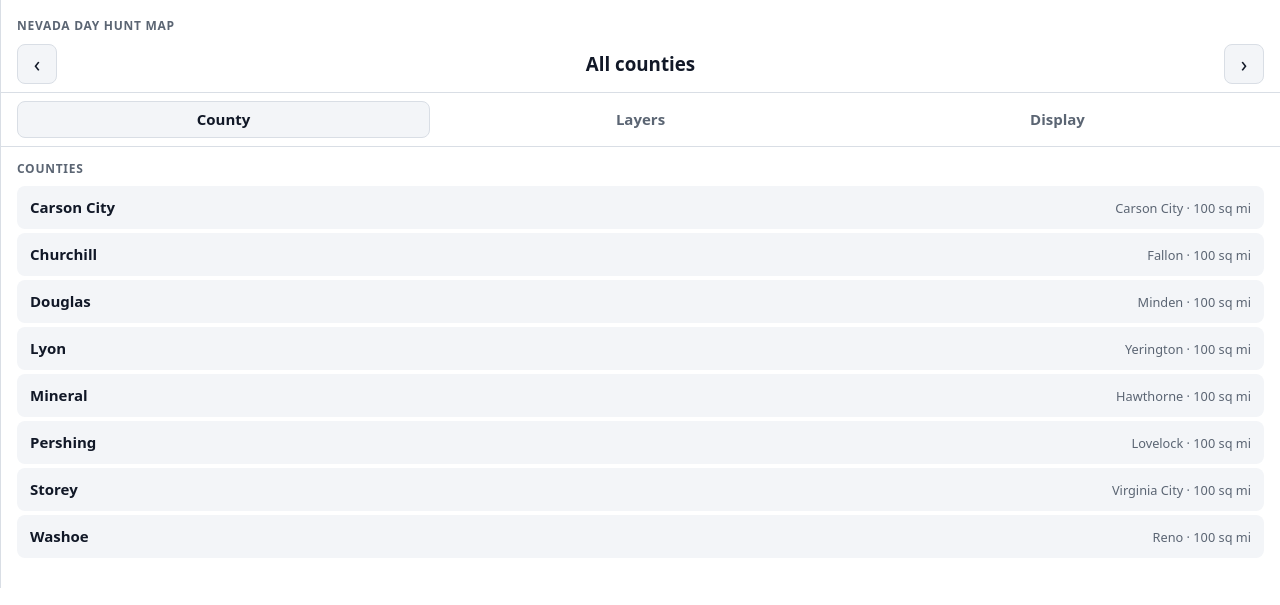
Scenario: SidePanel › steps through counties with ‹ ›
Click the button named "Next county" at (1244, 64), box 1224,44 -> 1264,84
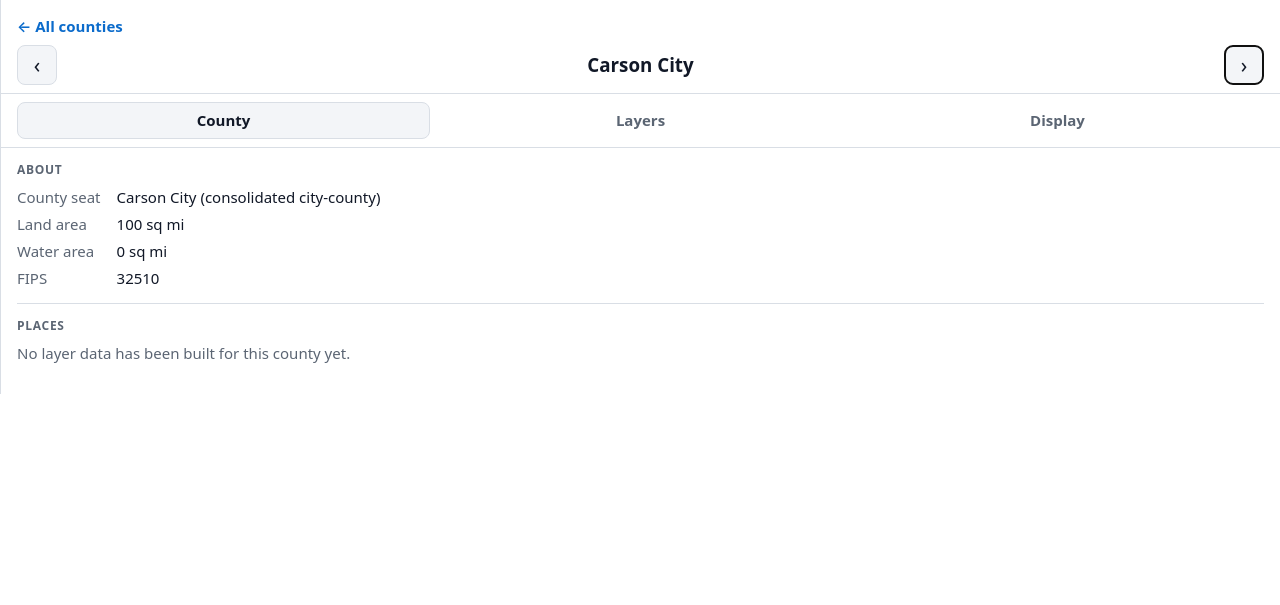
Expected: the heading "Carson City" is shown, 587,52 -> 694,77
Click the button named "Next county" at (1244, 65), box 1224,45 -> 1264,85
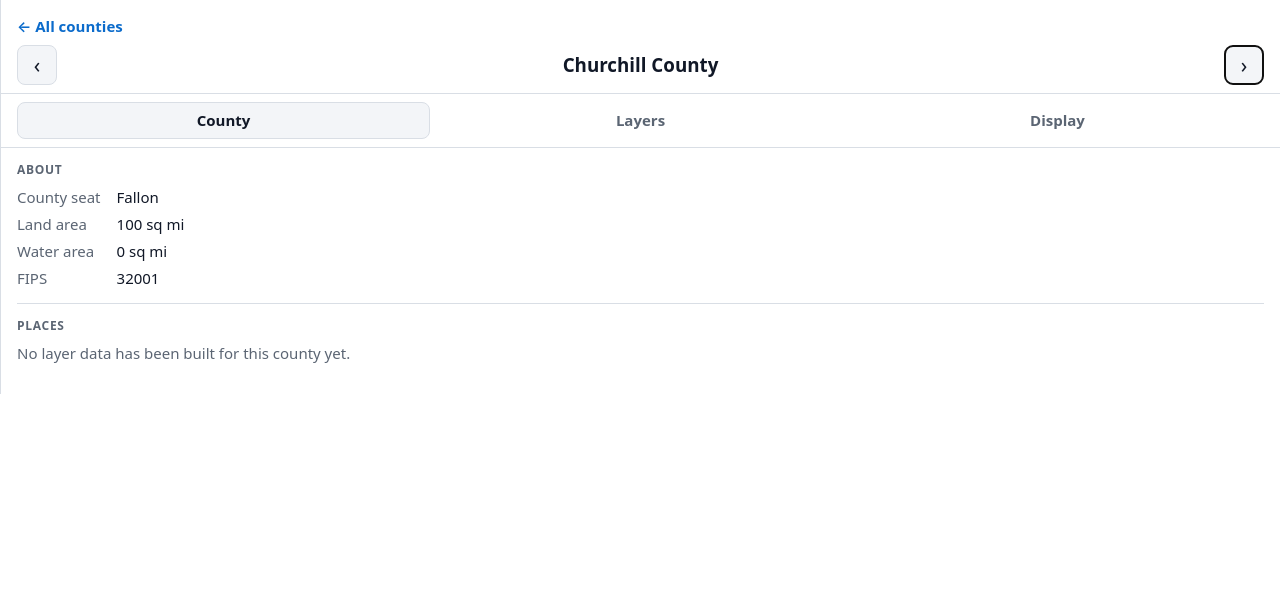
Expected: the heading "Churchill County" is shown, 563,52 -> 718,77
Click the button named "Previous county" at (37, 65), box 17,45 -> 57,85
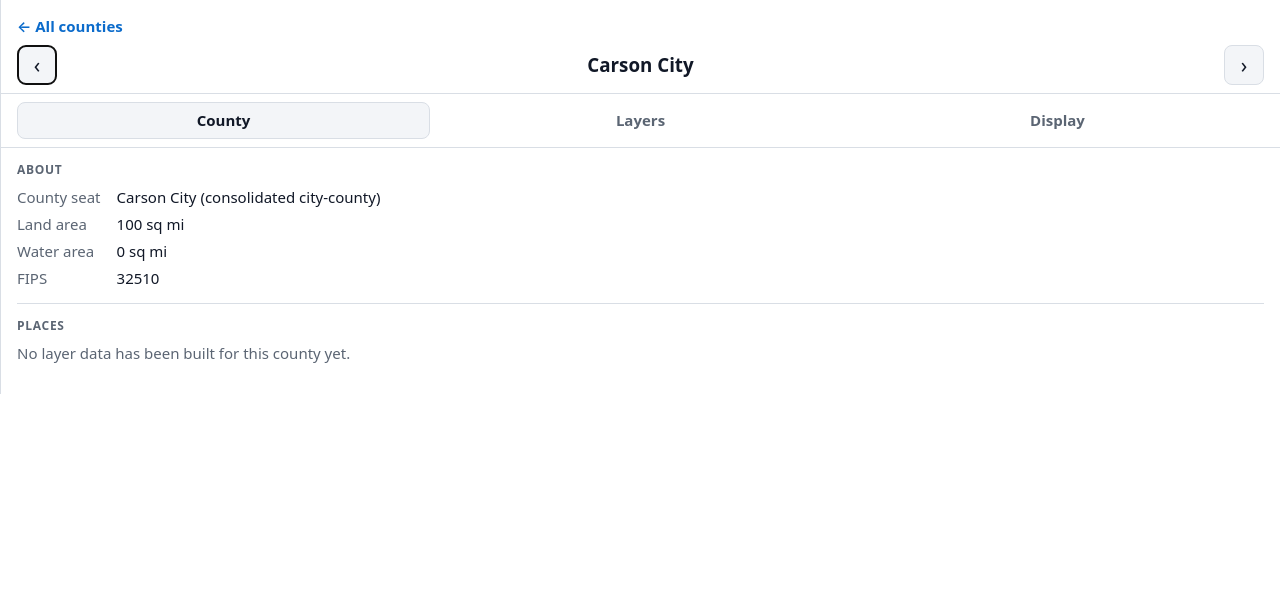
Click the button named "Previous county" at (37, 65), box 17,45 -> 57,85
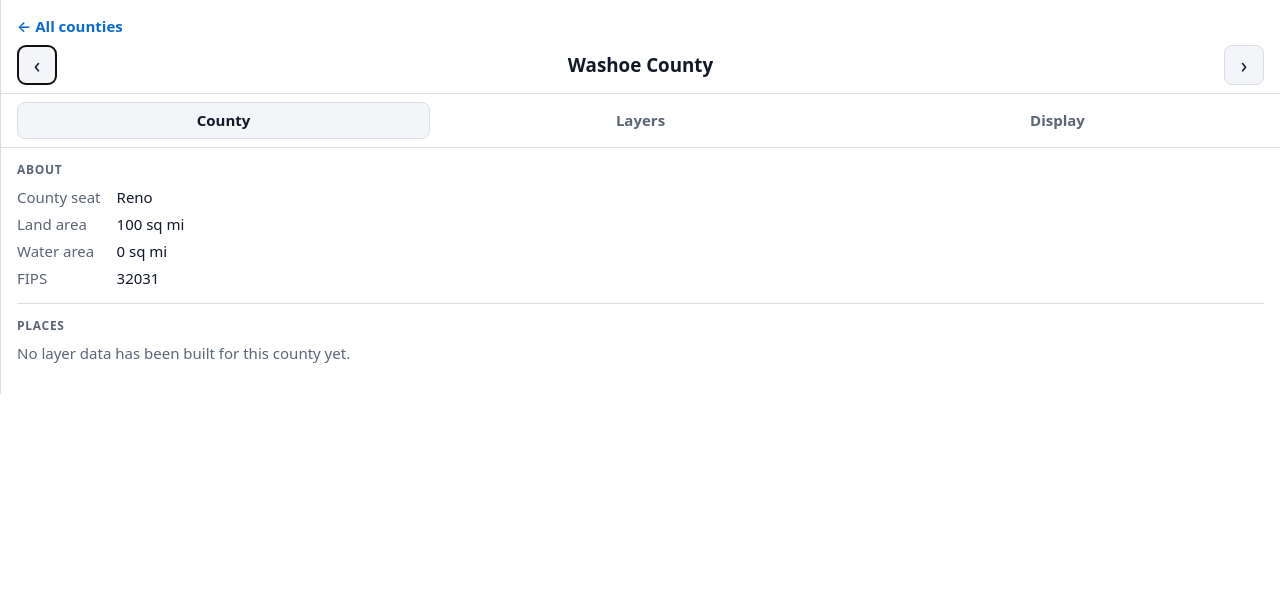
Expected: the heading "Washoe County" is shown, 568,52 -> 713,77
